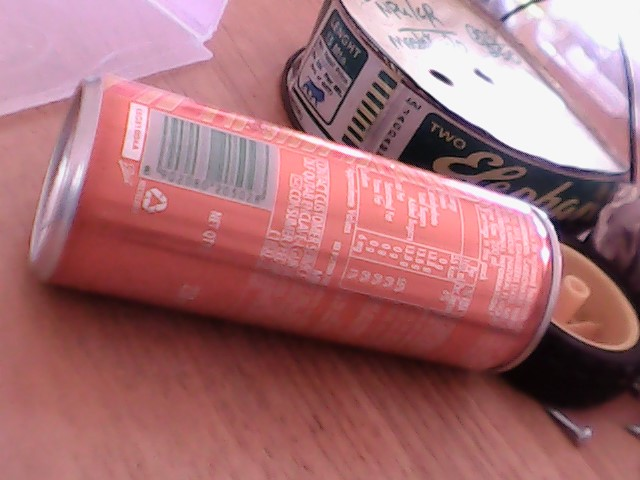Metal: (29, 74, 540, 374)
